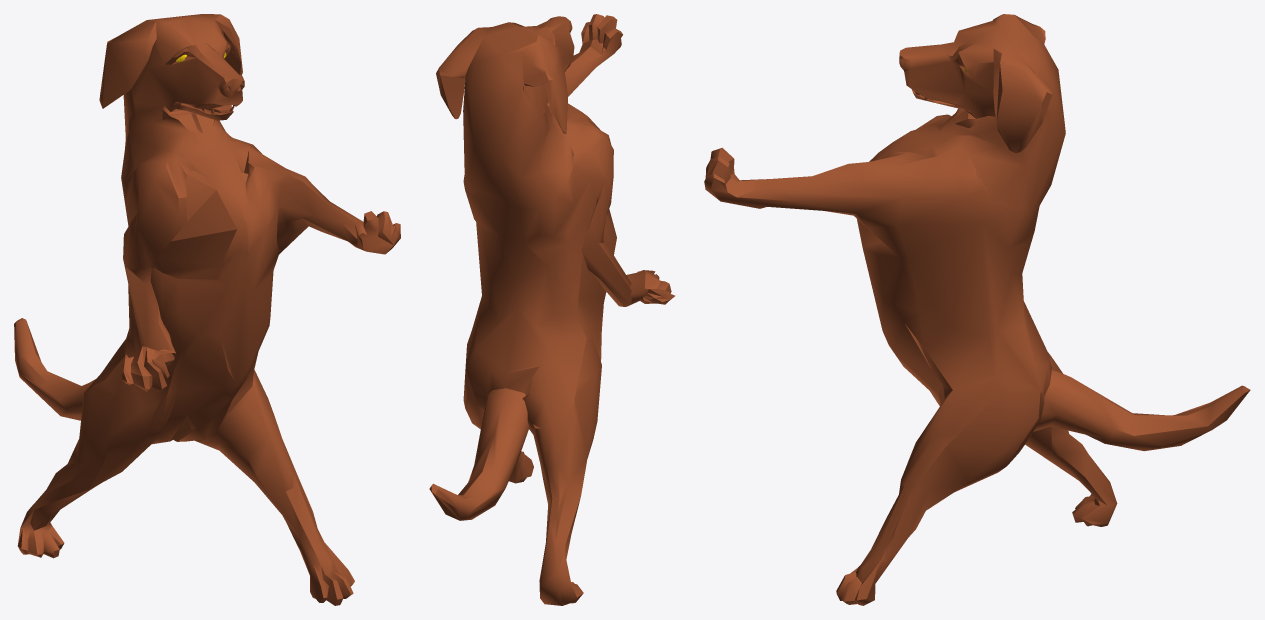
The model's file is dog 2.dae.
The picture shows the model from 3 angles, left to right: view 1: azimuth 30°, elevation 25°; view 2: azimuth 150°, elevation 25°; view 3: azimuth 270°, elevation 25°; orthographic projection. The views are drawn at different scales.
Visible parts, largest first — view 1: group_0; view 2: group_0; view 3: group_0.
Boxes of the visible parts, box(x1,y1,x2,y2) form: group_0: box(14, 14, 400, 605); group_0: box(429, 14, 675, 605); group_0: box(704, 14, 1250, 605).
Bounding box in the file's own units: 15.03 × 33.55 × 36.68.
